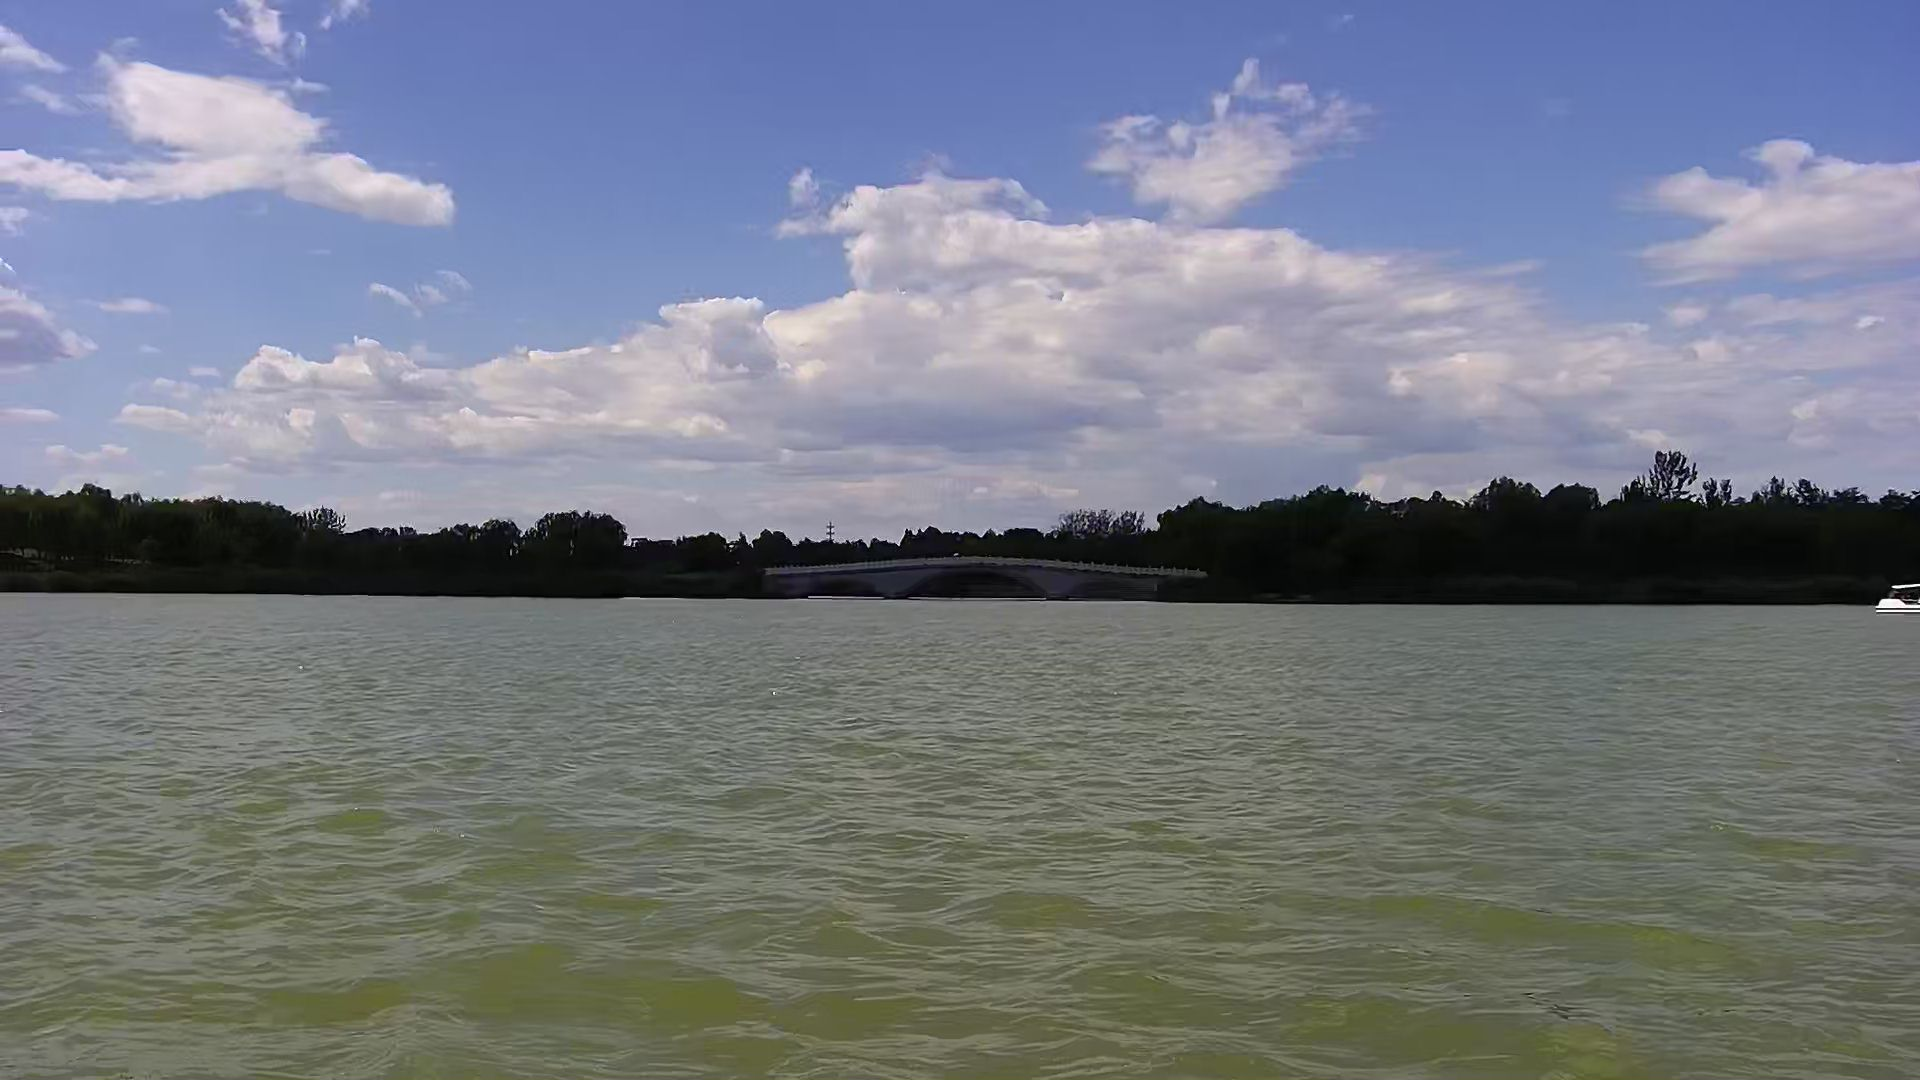bridge: (767, 556, 1203, 600)
